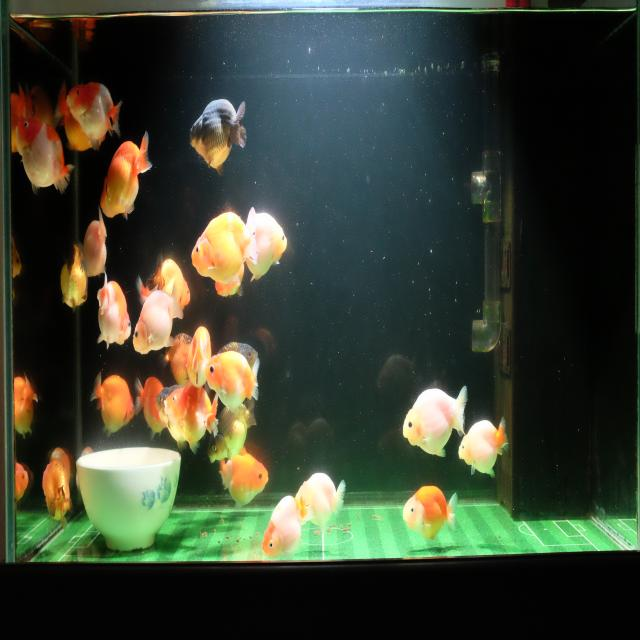Tilapia: (189, 207, 259, 286), (13, 115, 76, 198), (402, 381, 469, 459), (99, 127, 154, 221), (187, 96, 248, 178), (132, 277, 185, 360), (66, 79, 122, 156), (258, 480, 311, 560), (162, 383, 220, 455), (242, 207, 289, 287), (206, 395, 256, 470), (88, 364, 136, 442), (457, 414, 512, 481), (205, 353, 261, 417), (292, 470, 347, 534), (402, 483, 458, 545), (95, 269, 132, 357), (218, 450, 269, 512), (131, 370, 170, 446), (145, 248, 191, 309), (40, 452, 73, 532), (59, 234, 88, 312), (157, 329, 194, 387), (82, 208, 108, 280), (186, 322, 212, 391), (11, 372, 38, 438), (213, 259, 244, 301), (215, 341, 258, 367)
